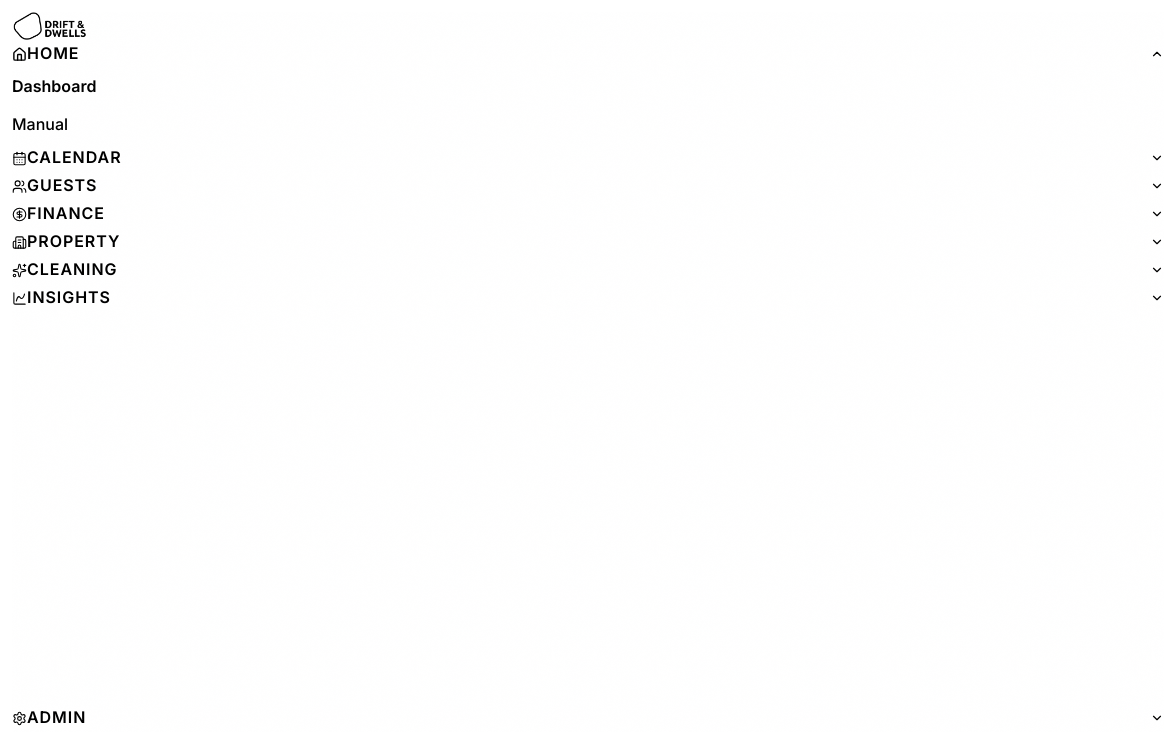
it: OpsSidebar expanded behavior › opens another group when its header is clicked
Expected: the link "Dashboard" is shown, [12,76,96,96]
Click the button "Property". click: point(74, 241)
box: [12,228,1164,256]
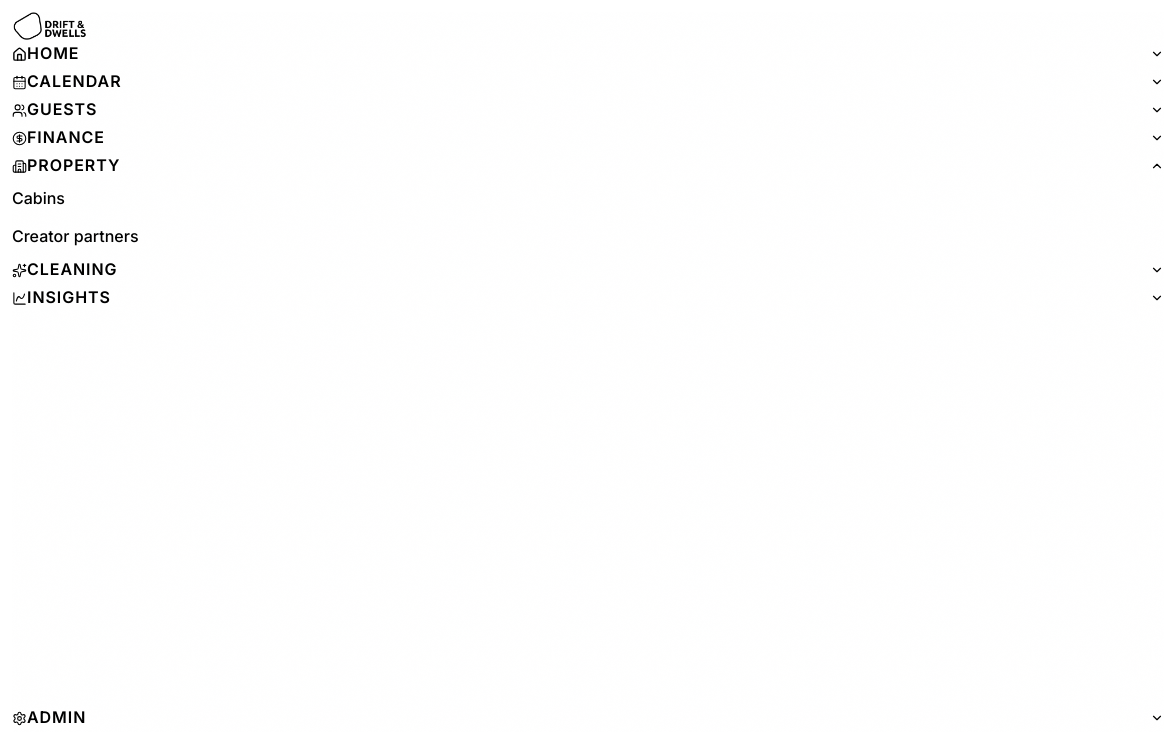
Expected: the button "Property" is expanded, [12,152,1164,180]
Expected: the link "Cabins" is shown, [12,188,65,208]
Expected: the link "Dashboard" is gone
